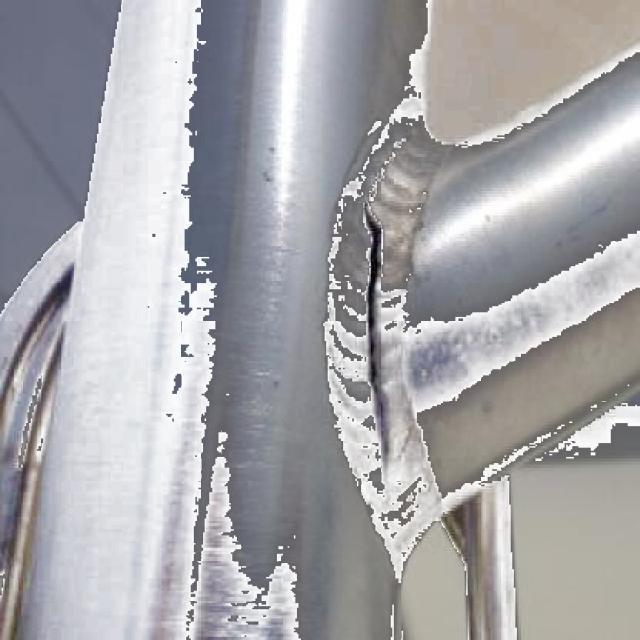crack: (363, 206, 388, 474)
